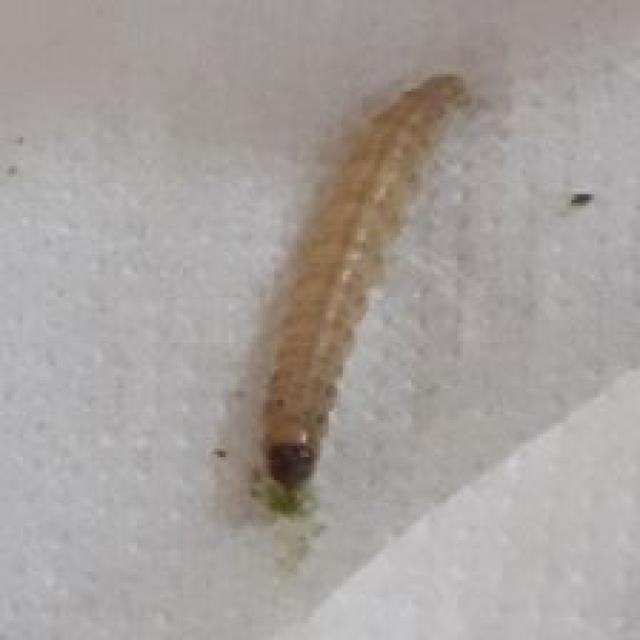white mucus: (247, 57, 530, 486)
